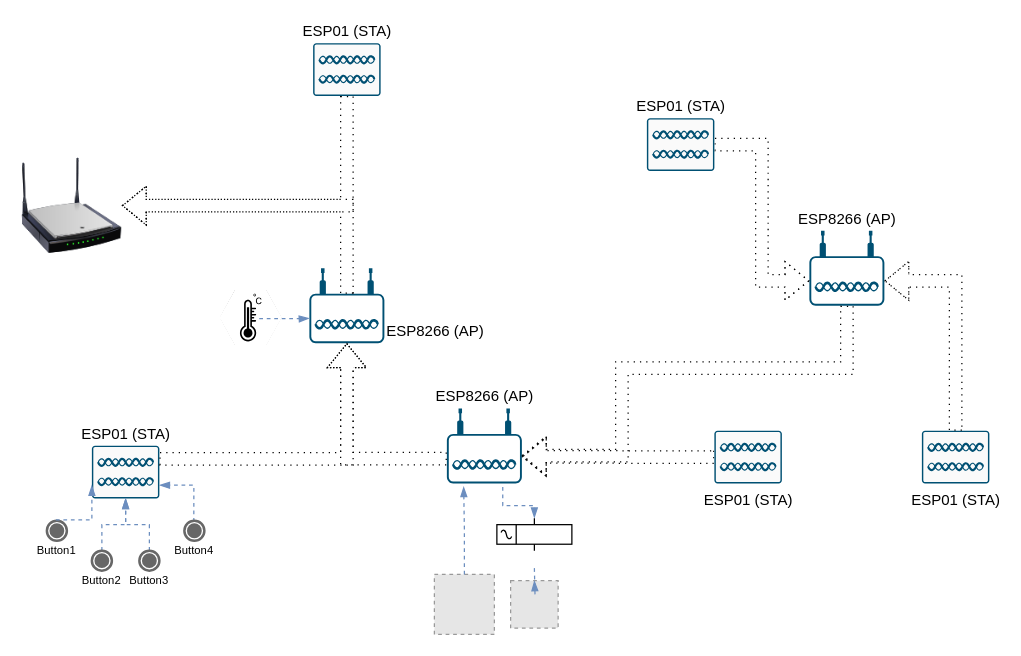
Some shapes in this 1021 by 656 pixel diagram are drawn without their labels. Grey dashed boxes stand in for pictures. The box of each missing label's shape, as (x1, y1, x2, y2) in pixels:
Home WiFi: (21, 155, 121, 255)
Relay: (496, 517, 572, 551)
Temp Sensor: (218, 288, 282, 346)
